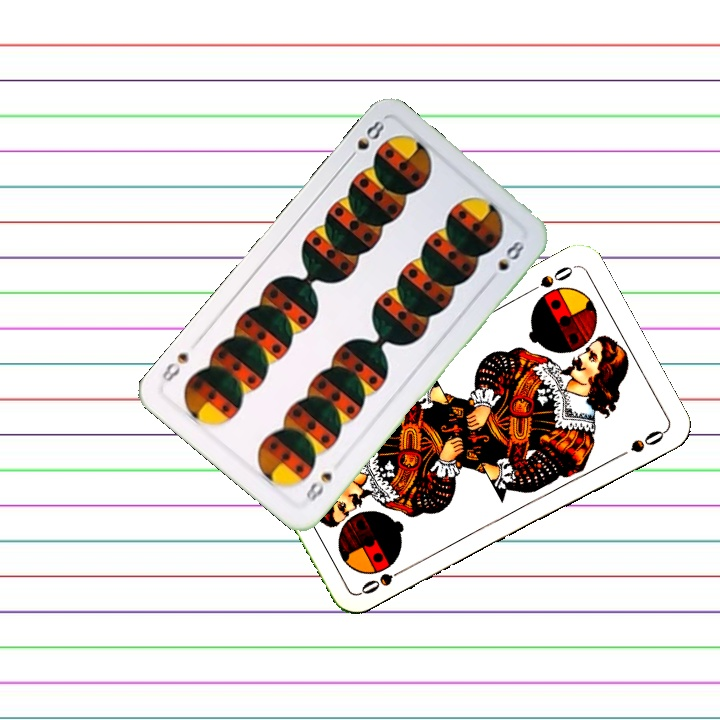S8: (342, 116, 388, 165), (300, 468, 335, 505)
SO: (356, 563, 412, 597), (523, 262, 577, 297)
